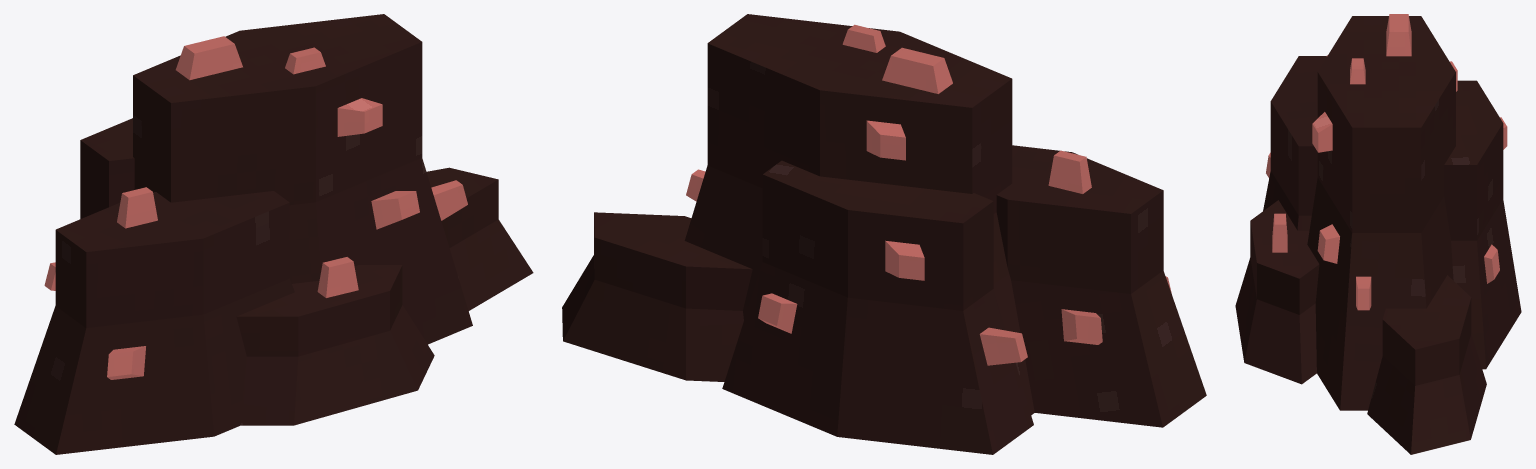
The model's file is item_artifactVein.glb.
3 renders of one model, left to right at view 1: azimuth 30°, elevation 25°; view 2: azimuth 150°, elevation 25°; view 3: azimuth 270°, elevation 25°, orthographic. The views are drawn at different scales.
Parts seen in each view (by area): view 1: Donor_space-rock_crystalsLargeA_0; view 2: Donor_space-rock_crystalsLargeA_0; view 3: Donor_space-rock_crystalsLargeA_0.
Boxes of the visible parts, left/top/right/bottom form: Donor_space-rock_crystalsLargeA_0: left=14, top=14, right=533, bottom=454; Donor_space-rock_crystalsLargeA_0: left=562, top=14, right=1206, bottom=454; Donor_space-rock_crystalsLargeA_0: left=1235, top=14, right=1521, bottom=454.
Bounding box in the file's own units: 0.4 × 0.22 × 0.2.
2 materials, 2 textured.
